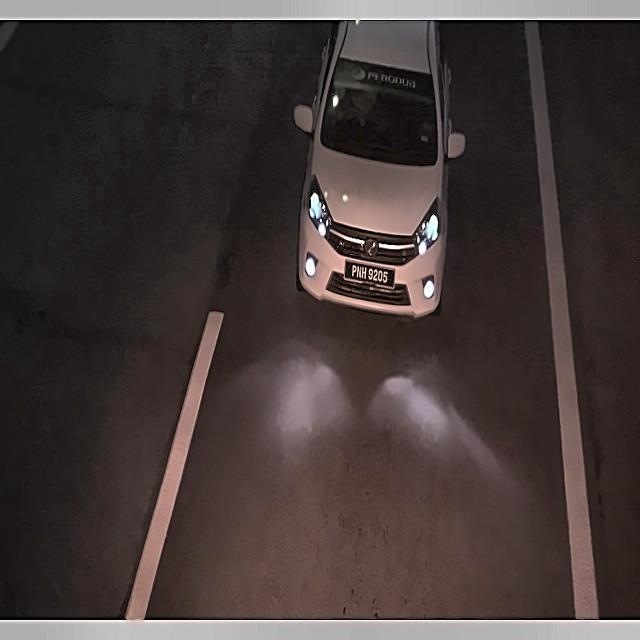car: (341, 252, 400, 293)
